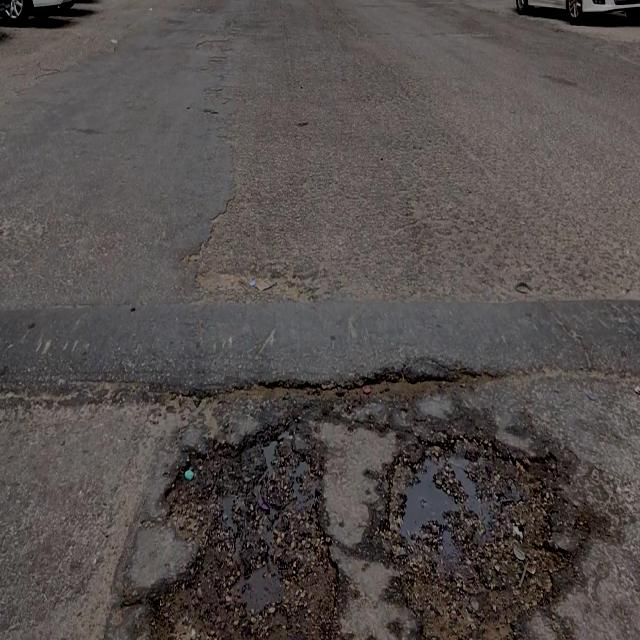Potholes: (139, 420, 341, 640), (380, 429, 574, 640)
